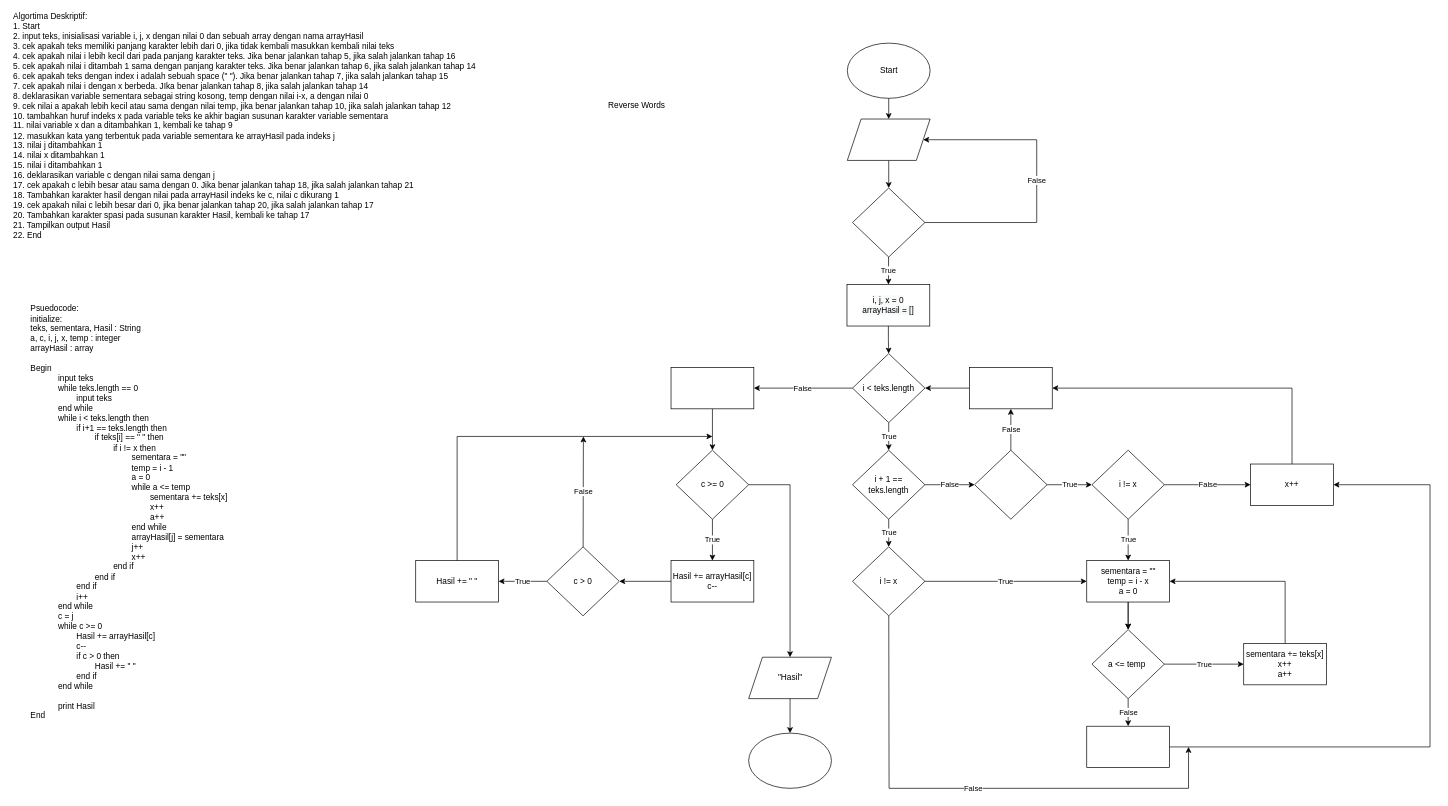
The diagram is 1448 pixels wide and 806 high, and some of its shapes have lost their labels. The shapes that lost their labels are listed below. From the top down, each one's centre as x and y in pixels, then its label:
point 888,139: input teks
point 888,222: teks.length > 0
point 712,388: c = j
point 1010,388: i+=1
point 1010,484: teks[i] == " "
point 789,760: End
point 1128,747: arrayHasil[j] = sementara j++
